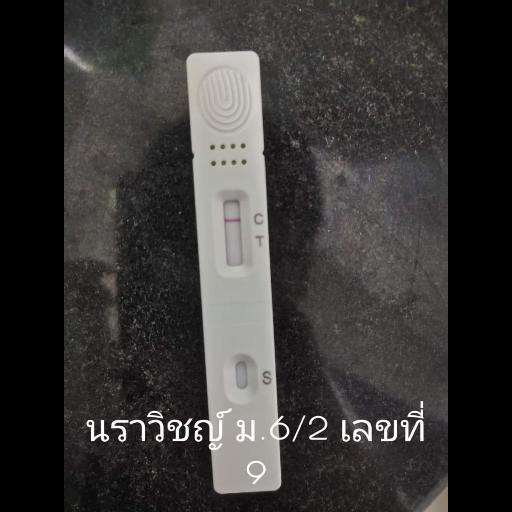Neg: (185, 48, 284, 498)
